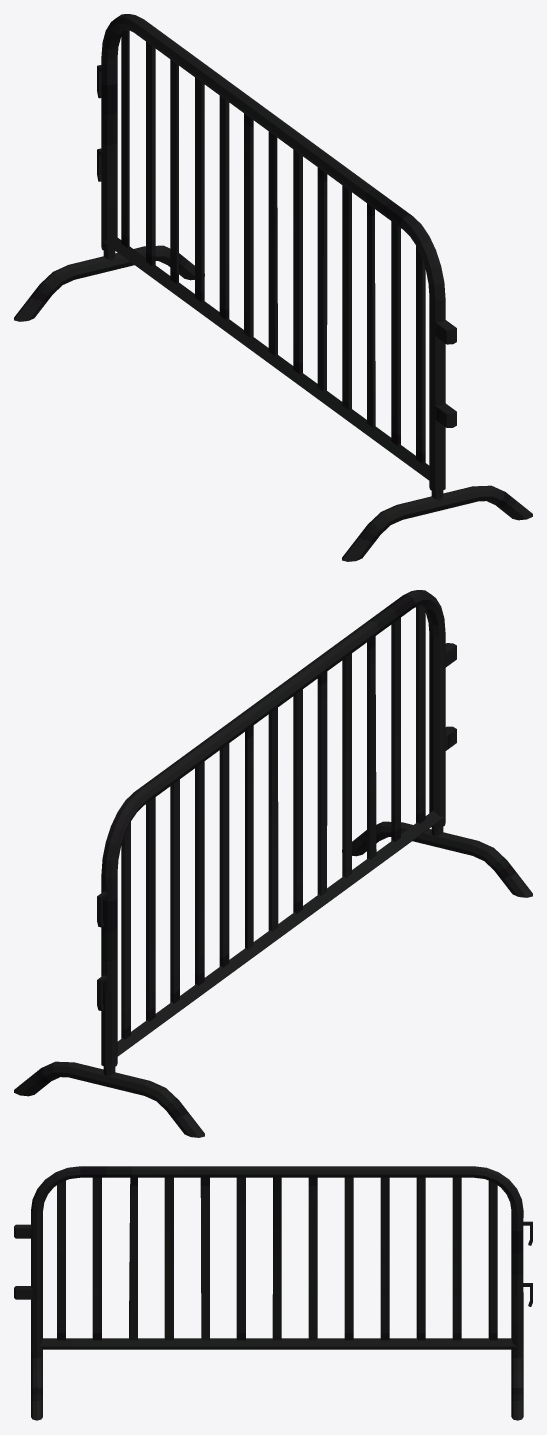
File: City_Fence00.fbx
3 views of the same model, one above another, from view 1: azimuth 30°, elevation 25°; view 2: azimuth 150°, elevation 25°; view 3: azimuth 270°, elevation 25° (orthographic). The views are drawn at different scales.
Visible parts, largest first — view 1: SM_City_Fence_02a.mo; view 2: SM_City_Fence_02a.mo; view 3: SM_City_Fence_02a.mo.
Boxes of the visible parts, x1,y1,x2,y2 form: SM_City_Fence_02a.mo: (14, 14, 532, 561); SM_City_Fence_02a.mo: (14, 590, 532, 1137); SM_City_Fence_02a.mo: (14, 1166, 532, 1420).
Bounding box in the file's own units: 77.34 × 116 × 248.
